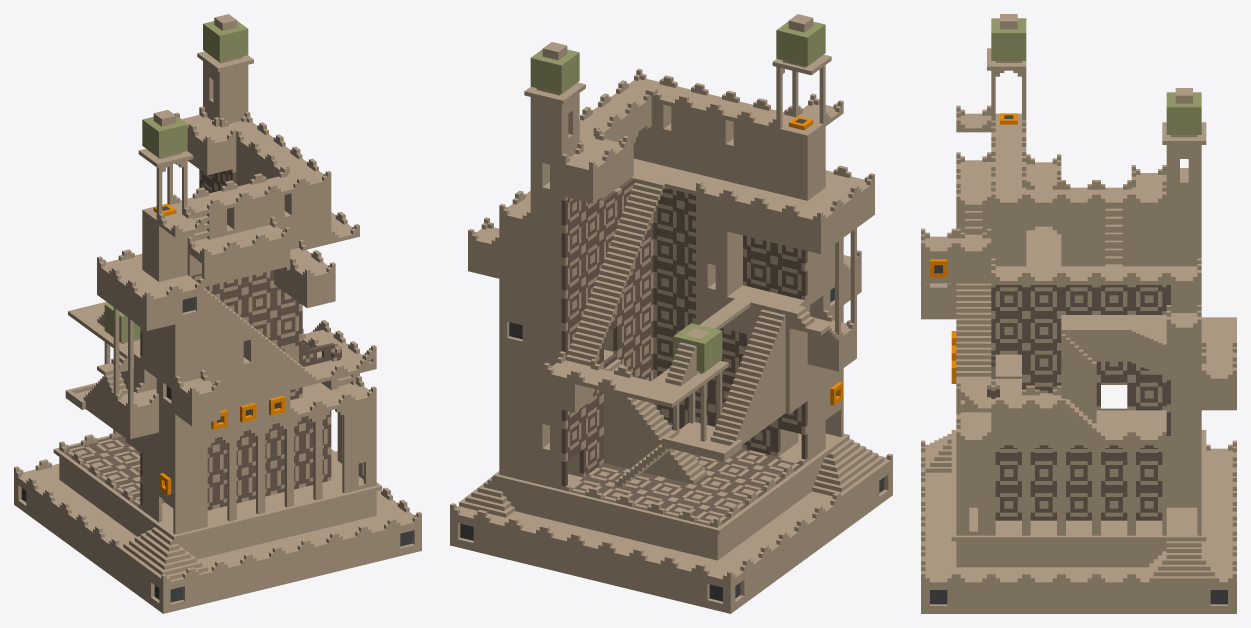
The model's file is MapVoxel.obj.
The picture shows the model from 3 angles, left to right: view 1: azimuth 30°, elevation 25°; view 2: azimuth 150°, elevation 25°; view 3: azimuth 270°, elevation 25°; orthographic projection. The views are drawn at different scales.
Size of the model in its own units: 7.2 by 12.2 by 7.2.
Materials: 1 (1 with a texture image).
